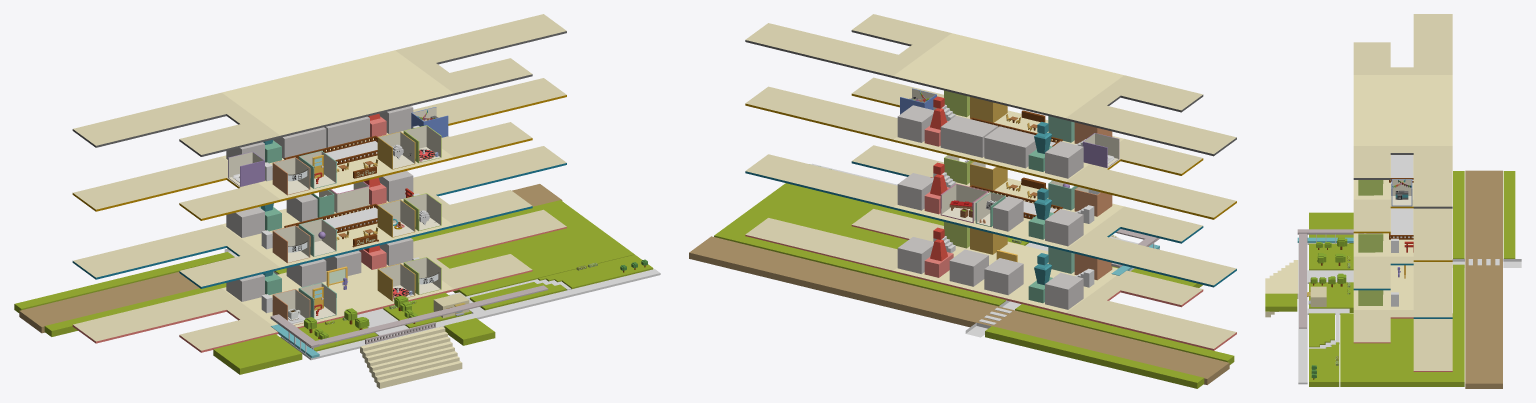
Rendered from souzou5.glb.
3 renders of one model, left to right at view 1: azimuth 30°, elevation 25°; view 2: azimuth 150°, elevation 25°; view 3: azimuth 270°, elevation 25°, orthographic. The views are drawn at different scales.
Visible parts, largest first — view 1: ground, F4, F1, F2, F3, 立方体.001, 3_other, 1_other, 2_other, 立方体.002, 立方体, 3_3 (+17 smaller); view 2: F4, F1, F2, 立方体.001, F3, ground, 3_other, 1_other, 2_other, 立方体.002, 立方体, 2_5 (+20 smaller); view 3: ground, F4, 立方体.001, F1, F2, F3, 立方体.002, 立方体, invisible2, 3_6, invisible5, 2_4 (+3 smaller).
Boxes of the visible parts, x1,y1,x2,y2 form: ground: (213, 200, 660, 388); F4: (72, 14, 566, 156); F1: (72, 209, 566, 352); F2: (72, 146, 566, 288); F3: (72, 78, 566, 220); 立方体.001: (19, 184, 562, 333); 3_other: (226, 106, 413, 159); 1_other: (226, 238, 413, 301); 2_other: (226, 171, 413, 237); 立方体.002: (14, 252, 234, 312); 立方体: (44, 283, 226, 336); 3_3: (377, 131, 415, 169); F4: (745, 14, 1236, 156); F1: (745, 209, 1236, 350); F2: (745, 145, 1236, 287); 立方体.001: (689, 236, 1229, 384); F3: (745, 77, 1236, 219); ground: (714, 163, 1202, 306); 3_other: (897, 105, 1083, 178); 1_other: (897, 237, 1083, 309); 2_other: (897, 173, 1083, 246); 立方体.002: (985, 326, 1204, 388); 立方体: (1015, 304, 1234, 364); 2_5: (940, 183, 988, 223); ground: (1265, 212, 1464, 386); F4: (1353, 14, 1452, 208); 立方体.001: (1465, 170, 1502, 388); F1: (1353, 265, 1452, 371); F2: (1353, 208, 1452, 318); F3: (1353, 155, 1452, 261); 立方体.002: (1503, 171, 1515, 258); 立方体: (1453, 171, 1464, 258); invisible2: (1391, 208, 1413, 237); 3_6: (1391, 179, 1412, 206); invisible5: (1391, 155, 1413, 180); 2_4: (1358, 233, 1383, 252).
Size of the model in its own units: 176 by 73 by 89.51.
